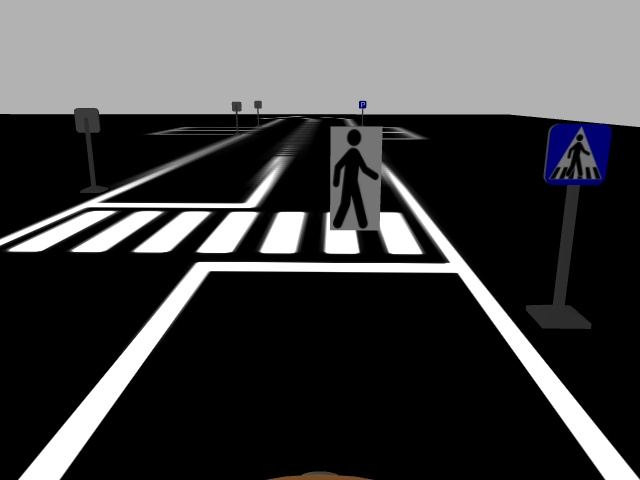crosswalk: (542, 123, 614, 186)
parking: (357, 99, 369, 110)
pedestrian: (328, 123, 384, 233)
